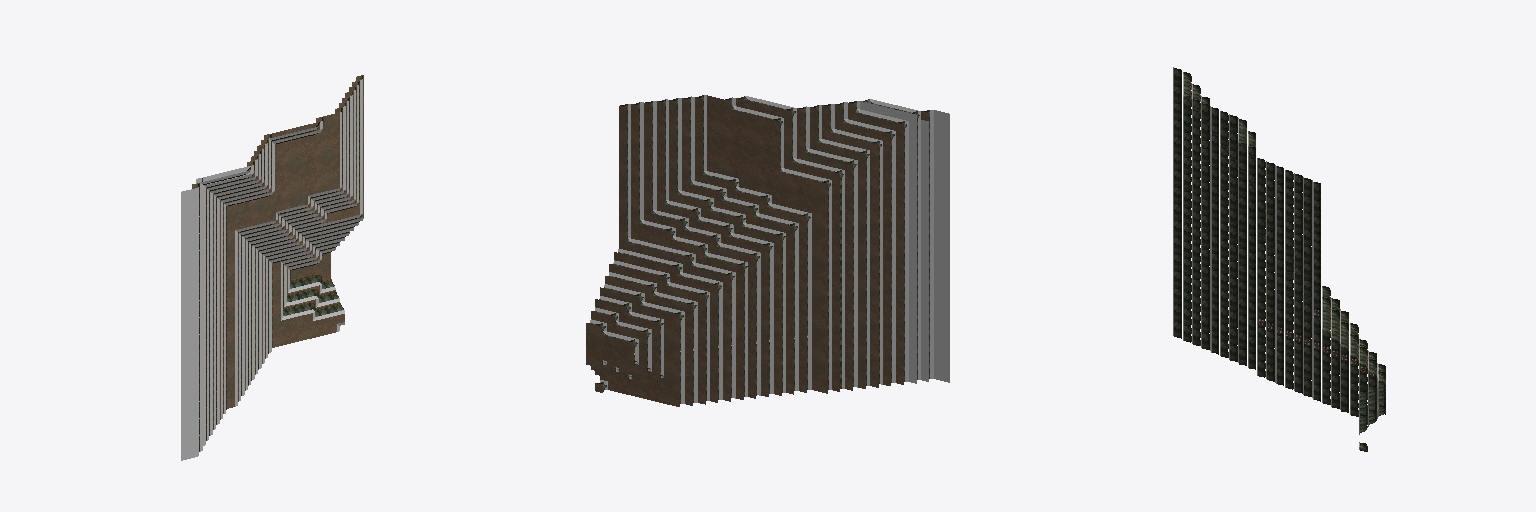
The picture shows the model from 3 angles: view 1: azimuth 30°, elevation 25°; view 2: azimuth 150°, elevation 25°; view 3: azimuth 270°, elevation 25°; orthographic projection.
Parts seen in each view (by area): view 1: map; view 2: map; view 3: map.
Boxes of the visible parts, <box> form: map: <box>181,75,363,460</box>; map: <box>586,95,949,406</box>; map: <box>1173,67,1385,451</box>.
Bounding box in the file's own units: 32 × 32 × 23.
9 materials, 5 textured.